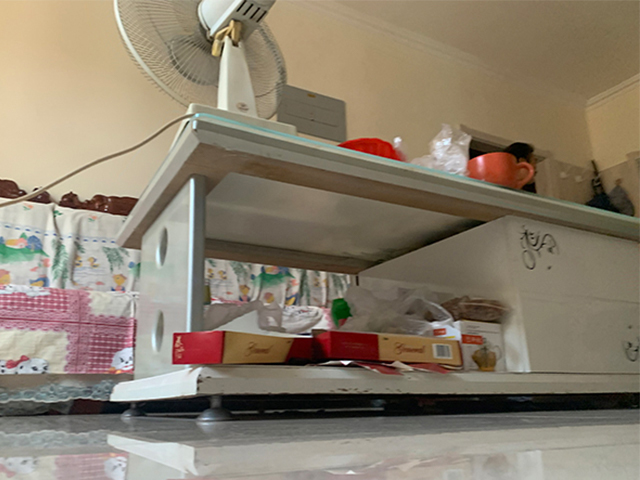sofa: (1, 177, 139, 414)
table: (108, 112, 640, 422)
